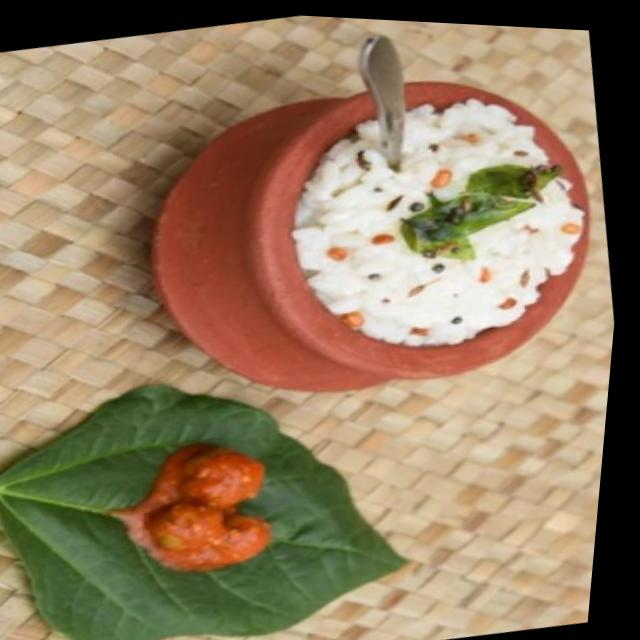CURD RICE: (297, 98, 586, 344)
PICKLE: (115, 441, 269, 570)
